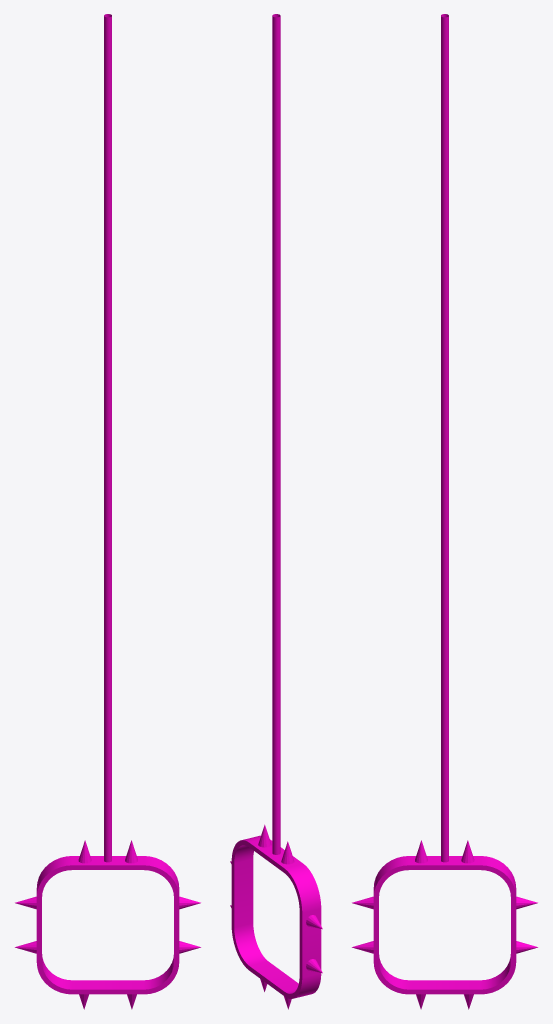
Rendered from cutter5_roundcube.fbx.
3 renders of one model, left to right at view 1: azimuth 90°, elevation 25°; view 2: azimuth 210°, elevation 25°; view 3: azimuth 270°, elevation 25°, orthographic.
Visible parts, largest first — view 1: Cutter5_Roundcube; view 2: Cutter5_Roundcube; view 3: Cutter5_Roundcube.
Boxes of the visible parts, x1,y1,x2,y2 form: Cutter5_Roundcube: (15,14,200,1009); Cutter5_Roundcube: (230,14,322,1009); Cutter5_Roundcube: (352,14,537,1009).
Size of the model in its own units: 16.81 by 831 by 142.
